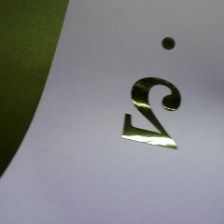violet2: (119, 33, 191, 156)
